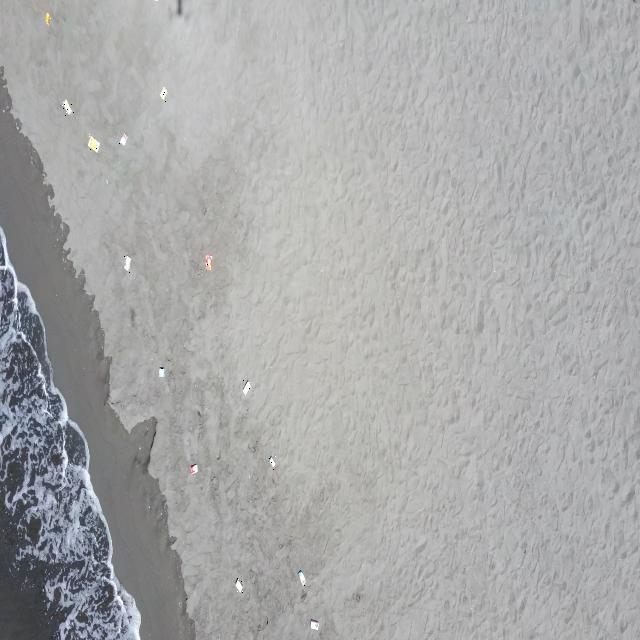Garbage: (296, 568, 306, 586), (88, 136, 99, 151), (63, 99, 72, 115), (241, 380, 249, 395), (204, 255, 212, 270), (236, 577, 243, 592), (123, 255, 129, 272), (119, 132, 127, 144), (310, 619, 318, 630), (268, 455, 275, 467), (160, 88, 167, 100), (44, 12, 51, 24), (190, 464, 196, 475), (158, 367, 163, 376)
